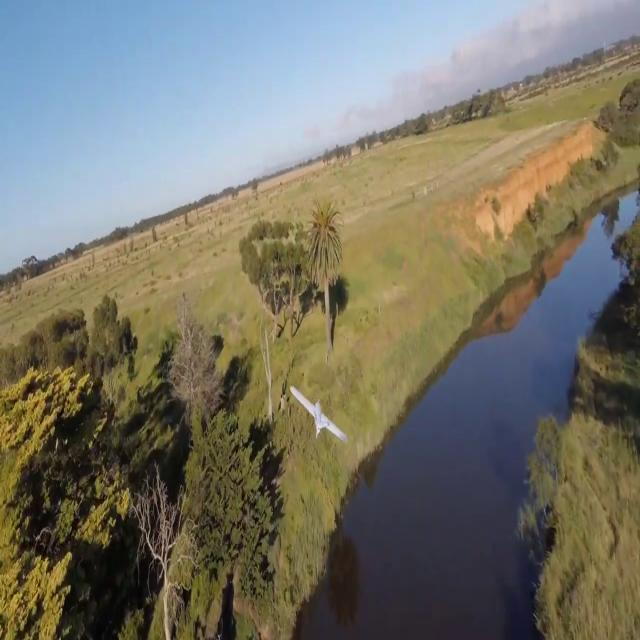iha: (289, 383, 349, 445)
